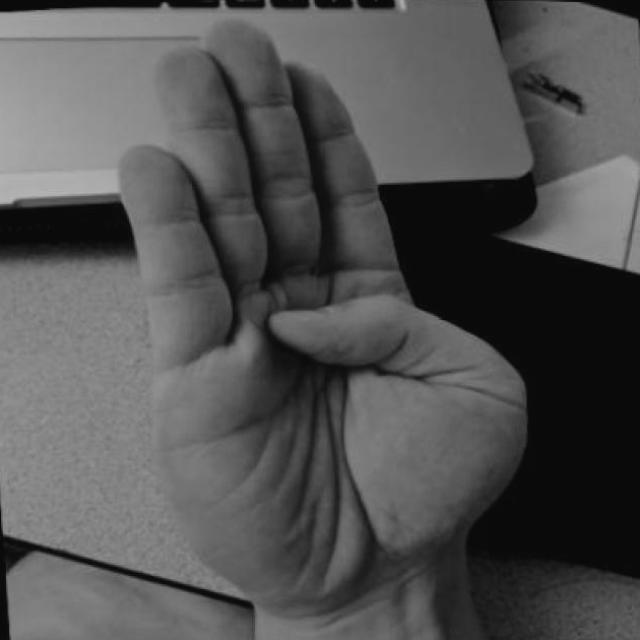B: (89, 5, 563, 612)
